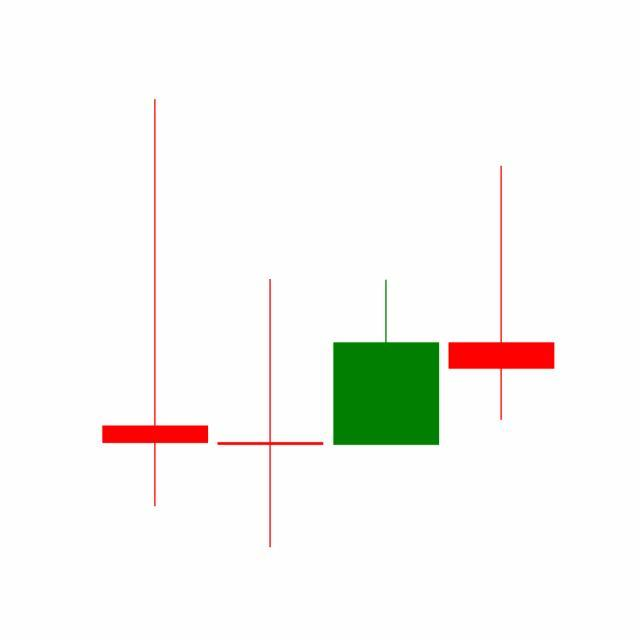Spinning Top: (444, 163, 560, 423)
